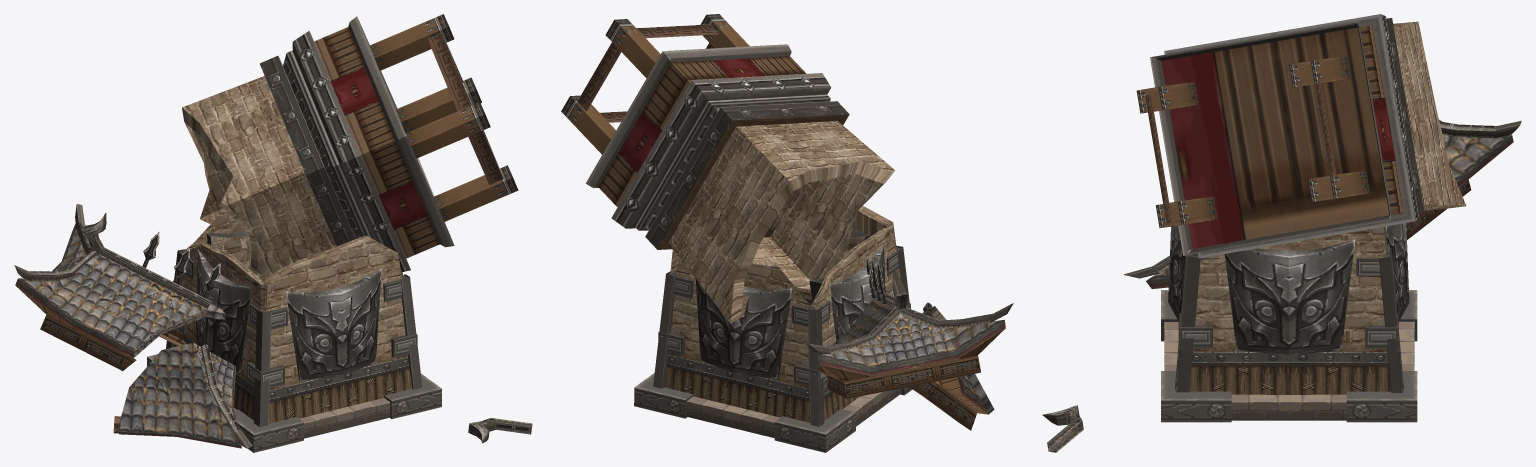
File: 4005__Item_menta_1.FBX
3 views of the same model, side by side, from view 1: azimuth 30°, elevation 25°; view 2: azimuth 150°, elevation 25°; view 3: azimuth 270°, elevation 25° (orthographic). The views are drawn at different scales.
Parts seen in each view (by area): view 1: 4005__Item_menta_1; view 2: 4005__Item_menta_1; view 3: 4005__Item_menta_1.
Boxes of the visible parts, left/top/right/bottom form: 4005__Item_menta_1: left=14, top=14, right=532, bottom=452; 4005__Item_menta_1: left=561, top=14, right=1013, bottom=452; 4005__Item_menta_1: left=1042, top=14, right=1521, bottom=452.
Size of the model in its own units: 975 by 691 by 745.
